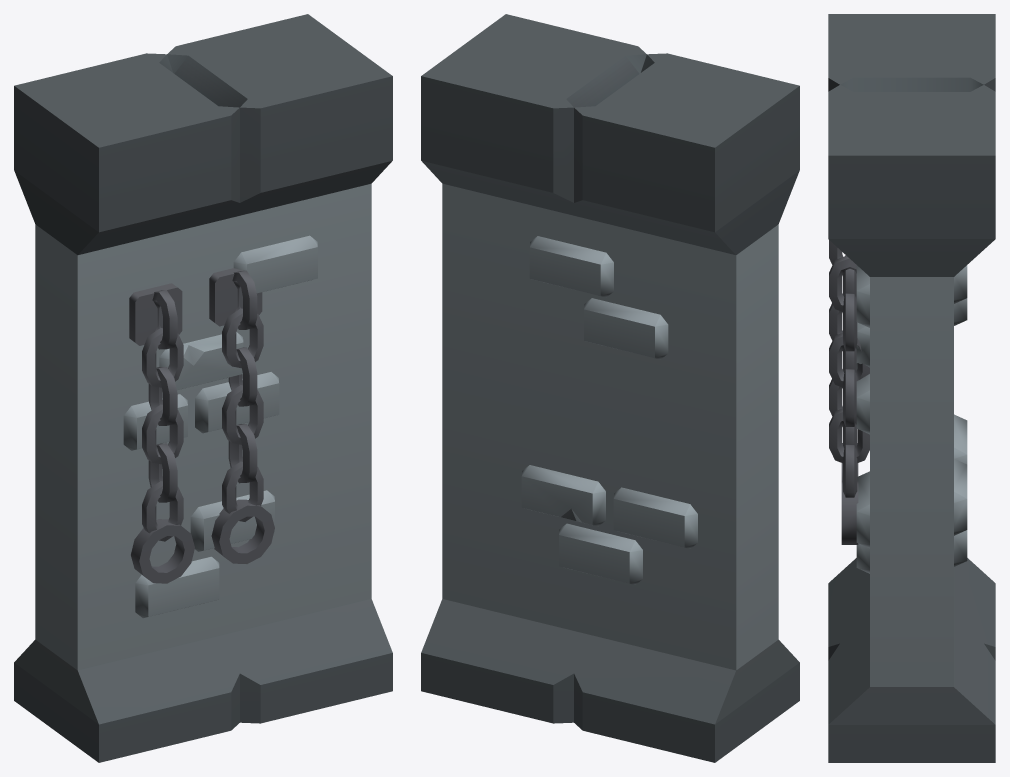
File: wall_prison_half_B.glb
3 renders of one model, left to right at view 1: azimuth 30°, elevation 25°; view 2: azimuth 150°, elevation 25°; view 3: azimuth 270°, elevation 25°, orthographic.
Parts seen in each view (by area): view 1: Item; view 2: Item; view 3: Item.
Part boxes in pixels (x1=…): Item: x1=14, y1=14, x2=392, y2=762; Item: x1=421, y1=14, x2=799, y2=762; Item: x1=828, y1=14, x2=995, y2=762.
Bounding box in the file's own units: 2 × 4 × 1.
Materials: 2 (2 with a texture image).
